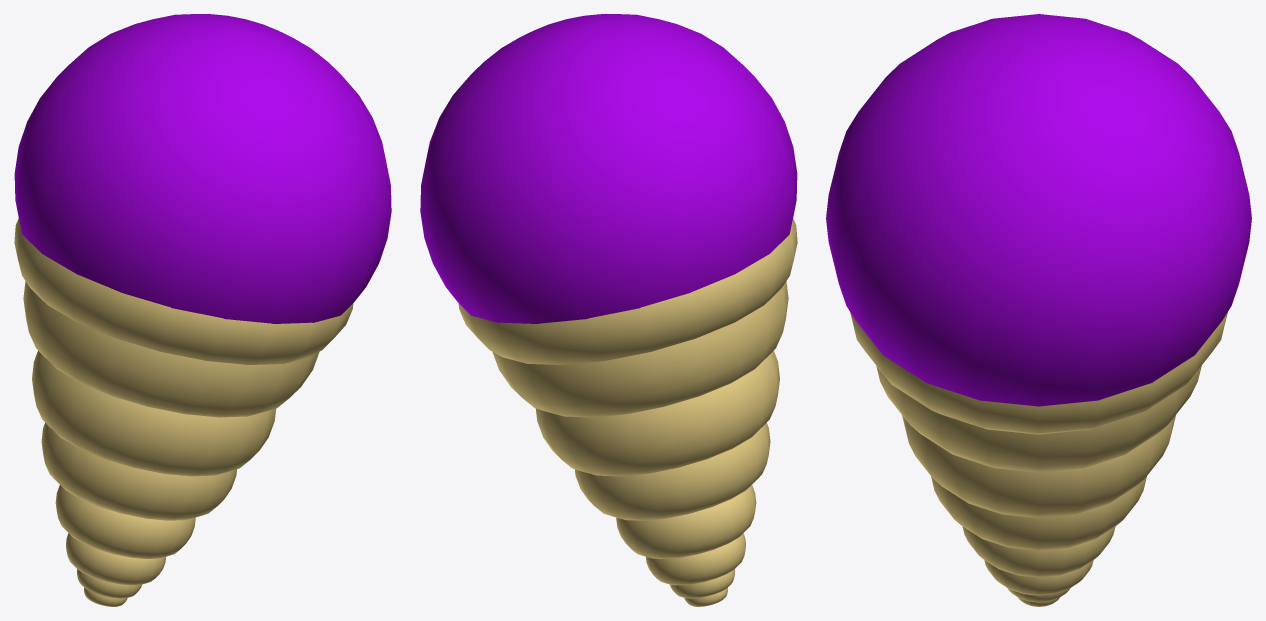
Rendered from IcedCreamBalloon.fbx.
3 views of the same model, side by side, from view 1: azimuth 30°, elevation 25°; view 2: azimuth 150°, elevation 25°; view 3: azimuth 270°, elevation 25° (orthographic). The views are drawn at different scales.
Parts seen in each view (by area): view 1: IcedCreamBalloon; view 2: IcedCreamBalloon; view 3: IcedCreamBalloon.
Boxes of the visible parts, x1,y1,x2,y2 form: IcedCreamBalloon: (14,14,391,606); IcedCreamBalloon: (420,14,797,606); IcedCreamBalloon: (826,14,1251,606).
Bounding box in the file's own units: 48.1 × 76.66 × 48.09.
